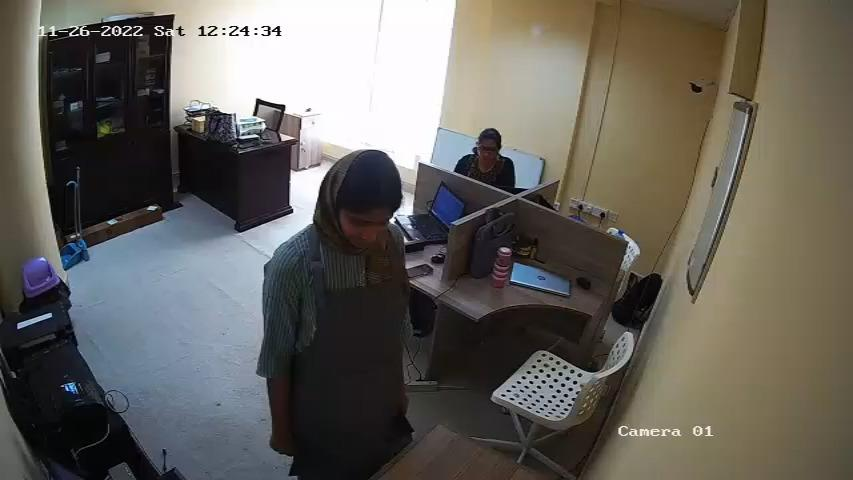apron: (290, 250, 407, 450)
